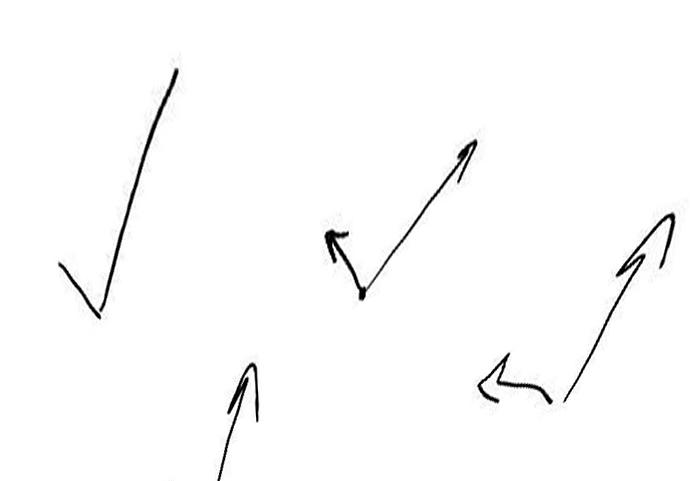arrow: (562, 212, 677, 399), (367, 138, 479, 287), (219, 361, 261, 479), (475, 353, 553, 406), (323, 228, 362, 289)
arrownohead: (102, 65, 178, 312), (57, 258, 99, 319)
